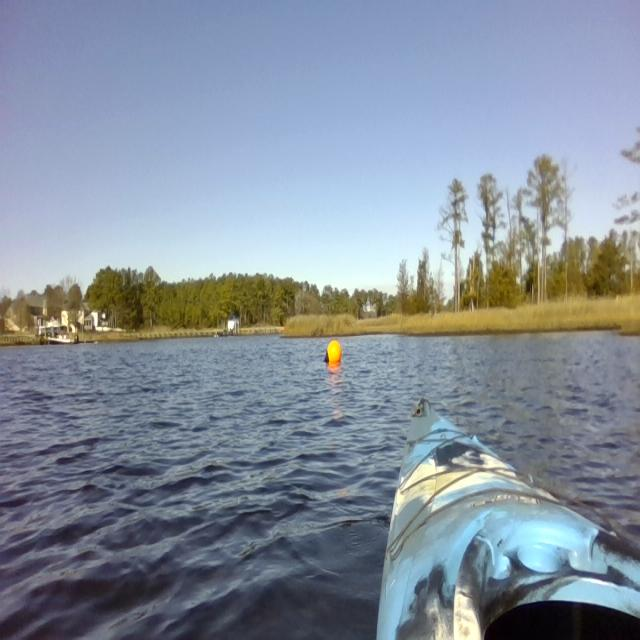Buoy: (319, 336, 347, 371)
